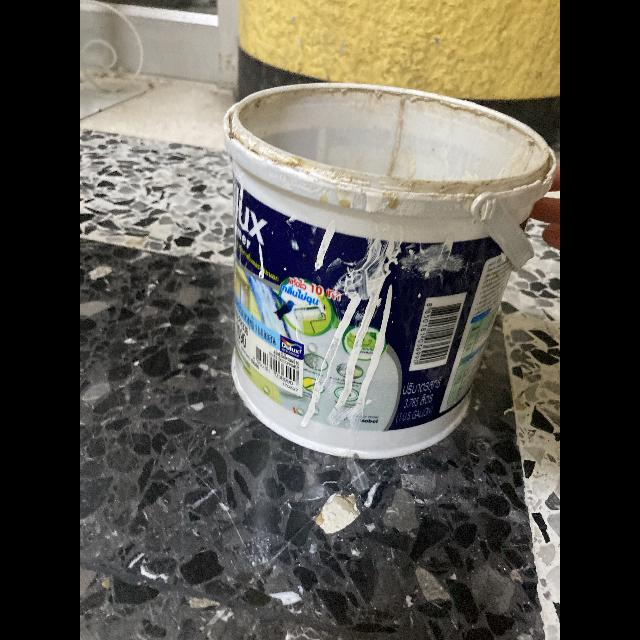paint_bucket: (224, 83, 558, 445)
